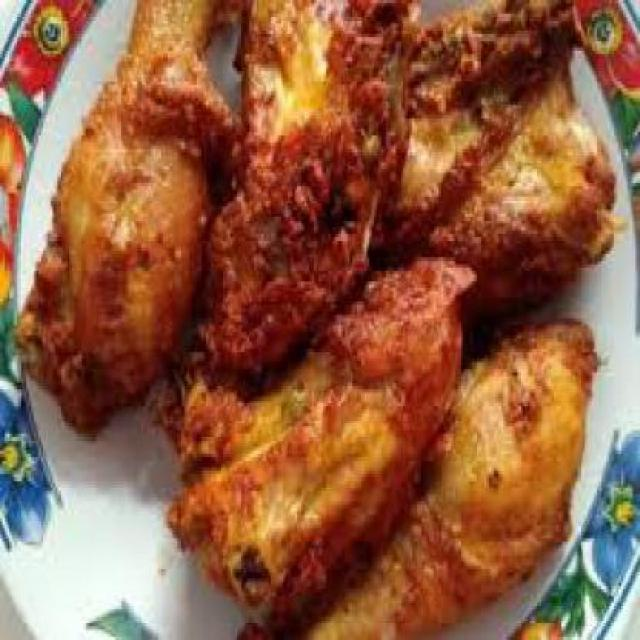Wet Waste: (270, 321, 602, 637), (170, 268, 464, 615), (26, 0, 211, 423), (206, 0, 400, 383), (384, 0, 617, 298)
